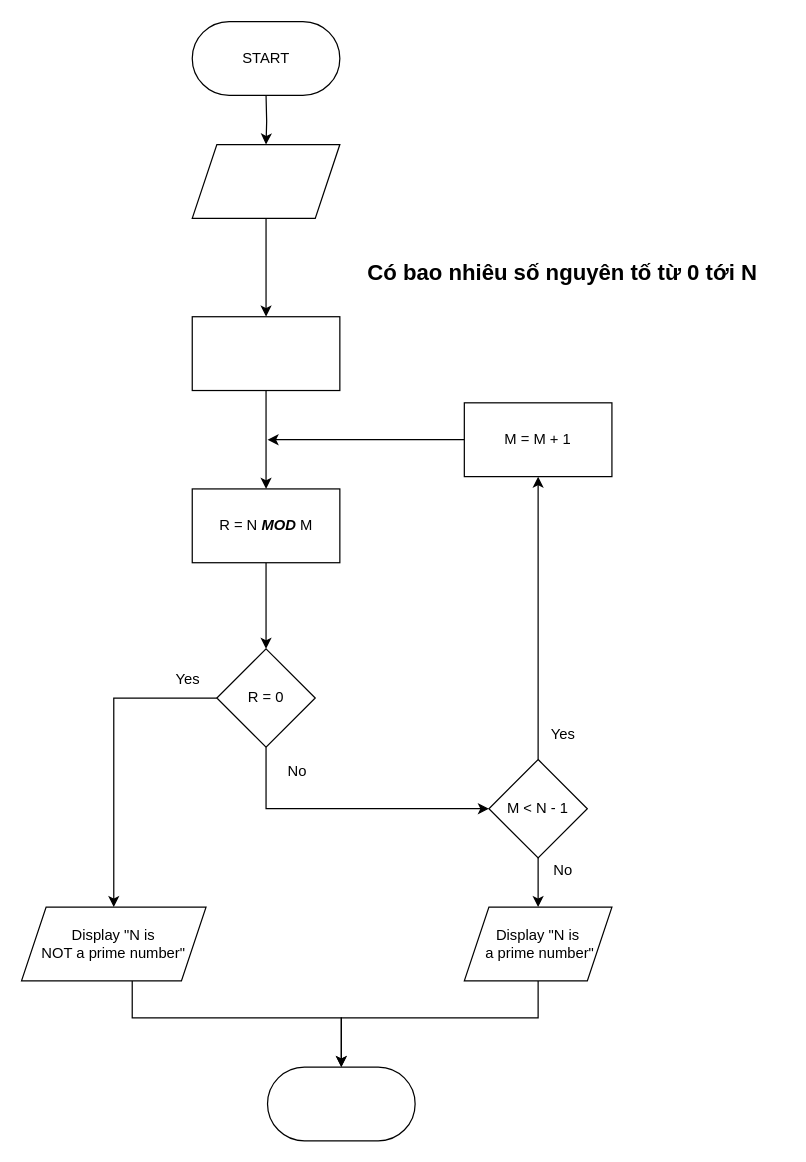
This 806x1162 diagram has some shape labels left out. The shapes that lost their labels are listed below. From the top down, each one's centre as x and y in pixels, then its label:
At (x=265, y=180): "INPUT N (>2)".
At (x=265, y=353): "M = 2".
At (x=340, y=1103): "STOP".
